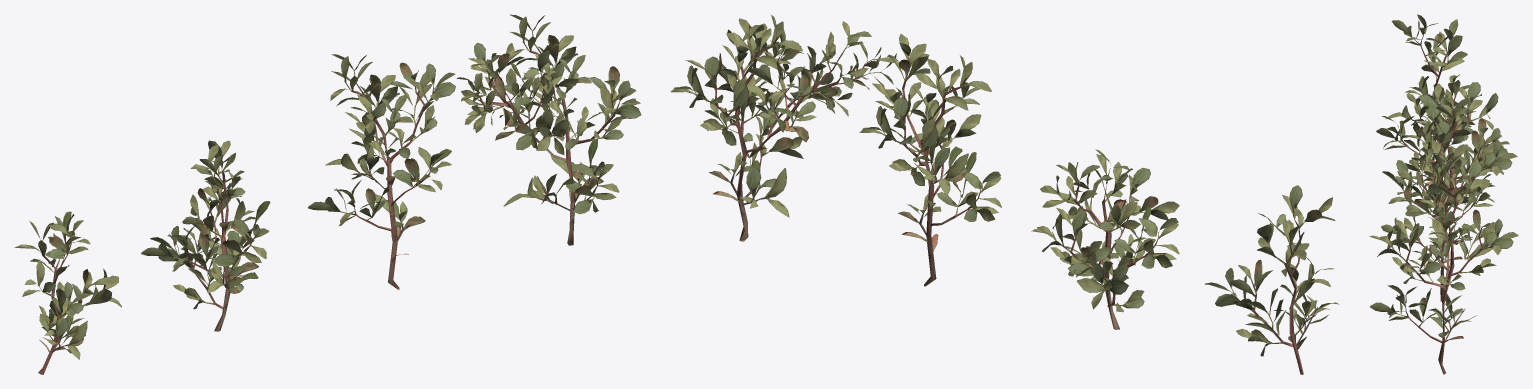
File: SM_Shrub04_01.gltf
3 renders of one model, left to right at view 1: azimuth 30°, elevation 25°; view 2: azimuth 150°, elevation 25°; view 3: azimuth 270°, elevation 25°, orthographic. The views are drawn at different scales.
Visible parts, largest first — view 1: SM_Shrub04_01; view 2: SM_Shrub04_01; view 3: SM_Shrub04_01.
Part boxes in pixels (bbox=[...]): SM_Shrub04_01: bbox=[14, 14, 641, 374]; SM_Shrub04_01: bbox=[670, 15, 1339, 374]; SM_Shrub04_01: bbox=[1369, 14, 1518, 374].
Bounding box in the file's own units: 0.5831 × 0.2186 × 0.1459.
1 material, 1 textured.
